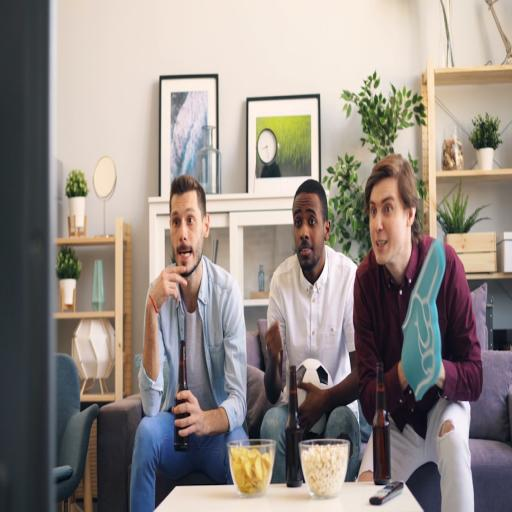face: (370, 178, 415, 284), (170, 191, 209, 277), (293, 193, 330, 282)
